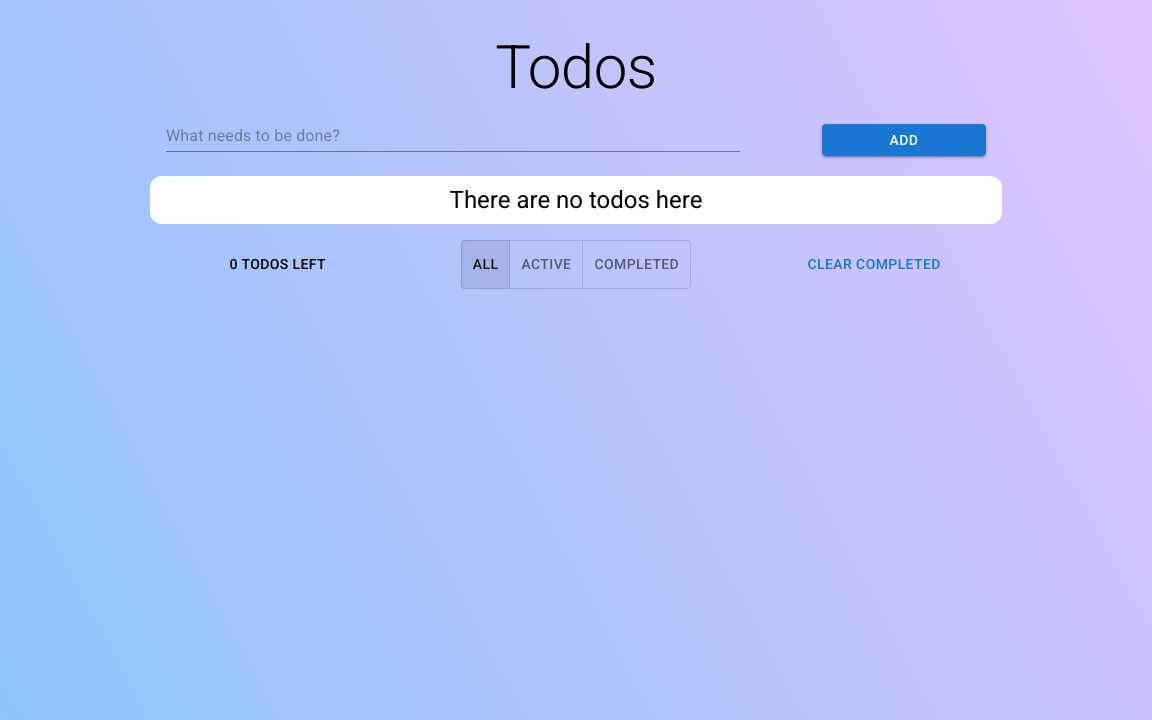
Test: Add form › should validate short value
Step 1. Type "12" into the element with test id "input" → (453, 136), box [166,120,740,152]
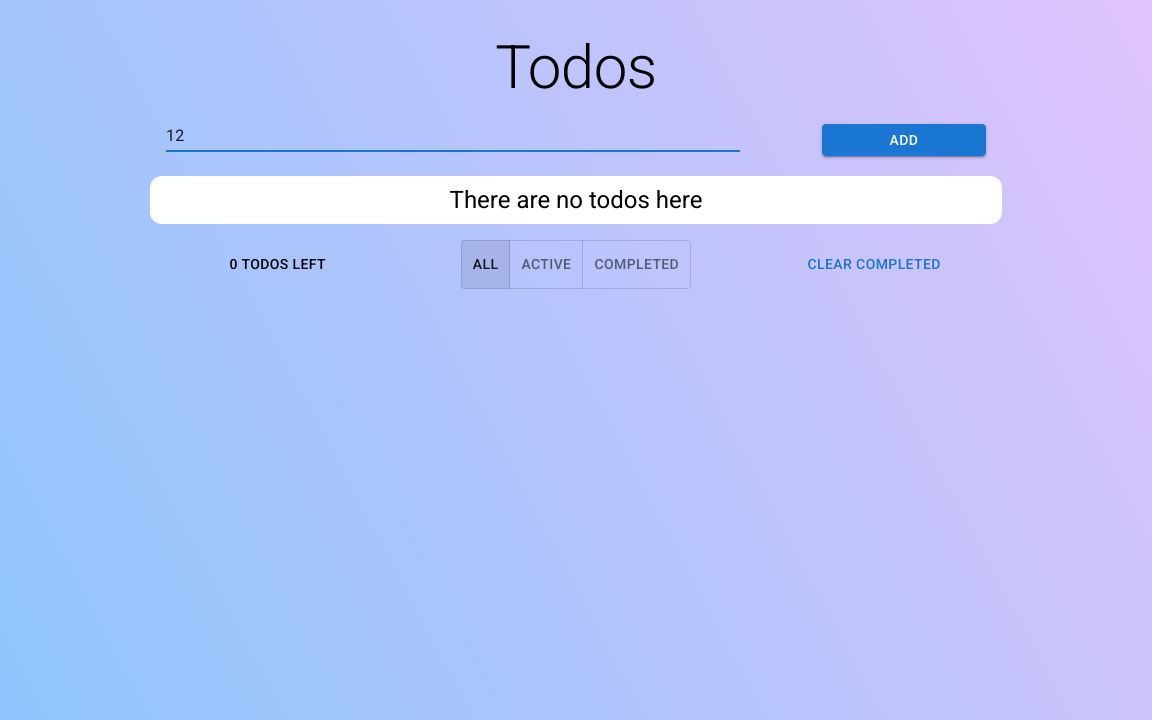
Step 2. Click the button with test id "btn" → (904, 140), box [822,124,986,156]
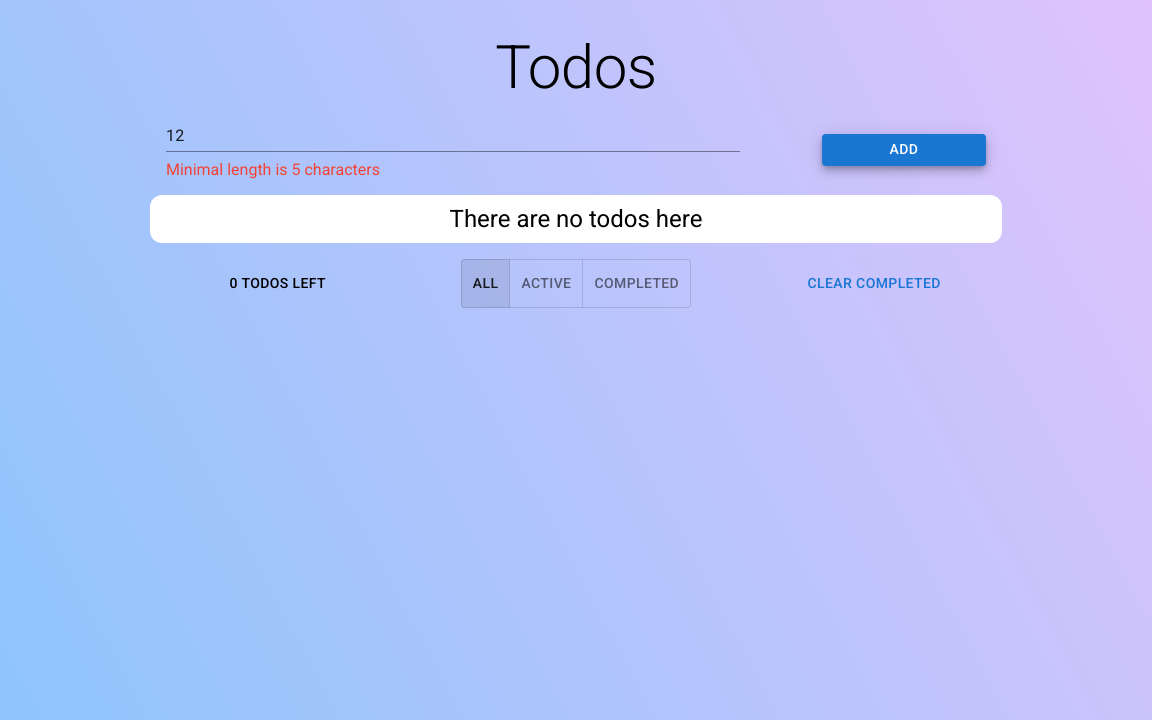
expect the text with test id "errorMessage" reads "Minimal length is 5 characters": met, box [166,160,380,179]
